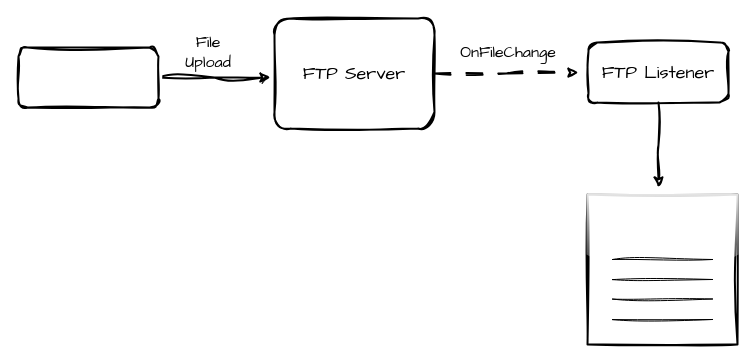
Image size: 755x362. Some labels were removed from this diagram. The centre of each missing label's shape, as x and y in pixels:
File Logs: [662,269]
FTP Client: [88,77]
